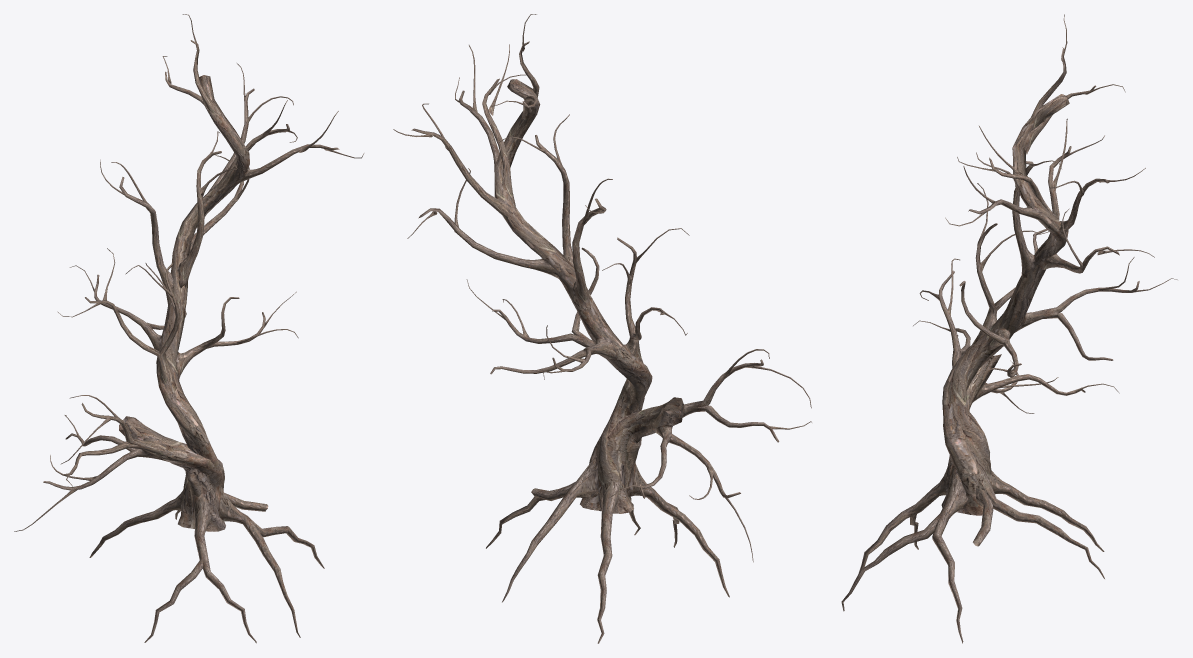
File: arbol_seco_3.obj
3 views of the same model, side by side, from view 1: azimuth 30°, elevation 25°; view 2: azimuth 150°, elevation 25°; view 3: azimuth 270°, elevation 25° (orthographic). The views are drawn at different scales.
Visible parts, largest first — view 1: export_Tree_0_Tree_0Mat_0; view 2: export_Tree_0_Tree_0Mat_0; view 3: export_Tree_0_Tree_0Mat_0.
Part boxes in pixels (<box>): export_Tree_0_Tree_0Mat_0: <box>14,14,364,643</box>; export_Tree_0_Tree_0Mat_0: <box>393,14,811,643</box>; export_Tree_0_Tree_0Mat_0: <box>841,14,1177,643</box>.
Bounding box in the file's own units: 0.5899 × 1 × 0.5169.
1 material, 1 textured.
